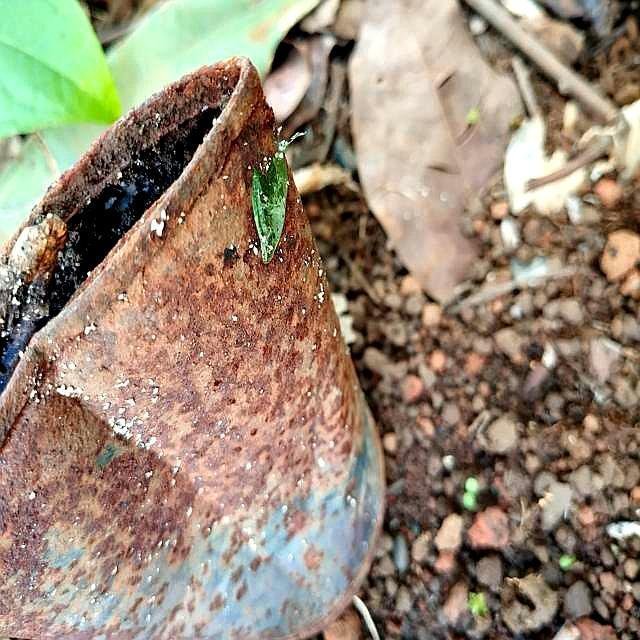Non-biodegradable: (1, 55, 389, 639)
